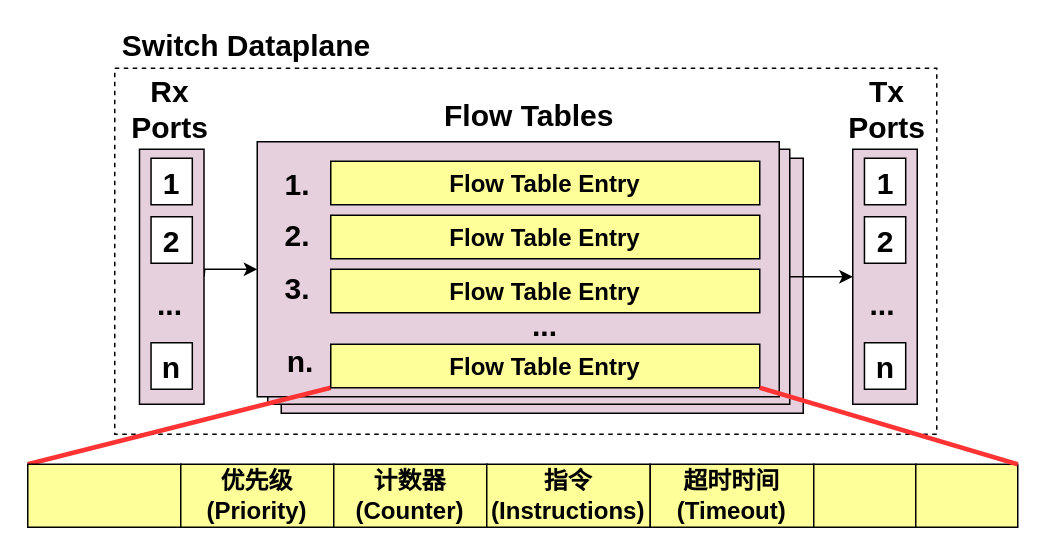
This 1047x554 diagram has some shape labels left out. Each missing label, with the centre of its shape:
Cookie: (x=864, y=495)
Flag: (x=966, y=495)
匹配域 (Match Field): (x=103, y=495)
